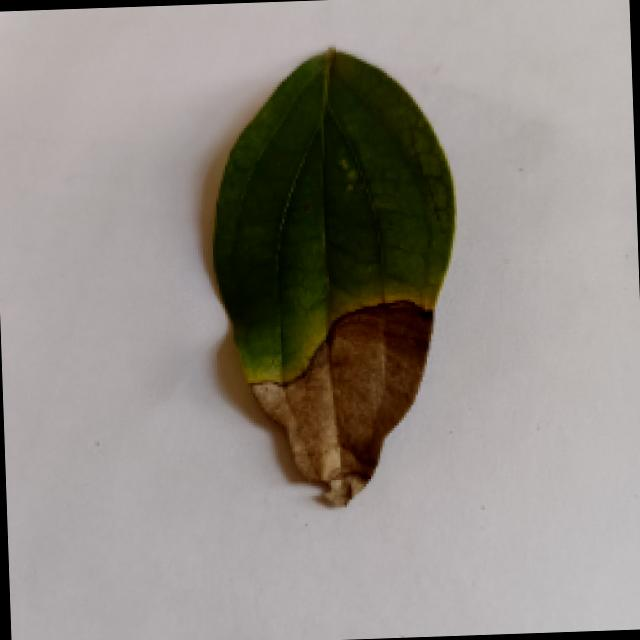footrot: (198, 38, 466, 509)
